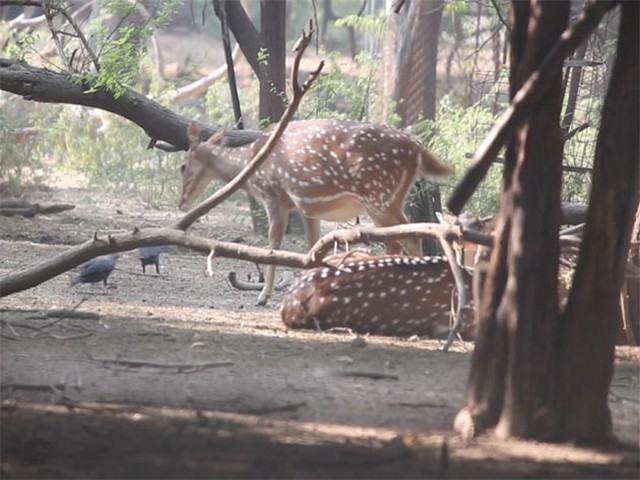deer: (156, 116, 450, 228), (281, 256, 473, 337)
